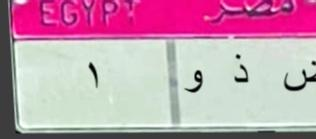1: (82, 59, 108, 96)
waw: (180, 65, 208, 98)
zaal: (229, 50, 256, 92)
